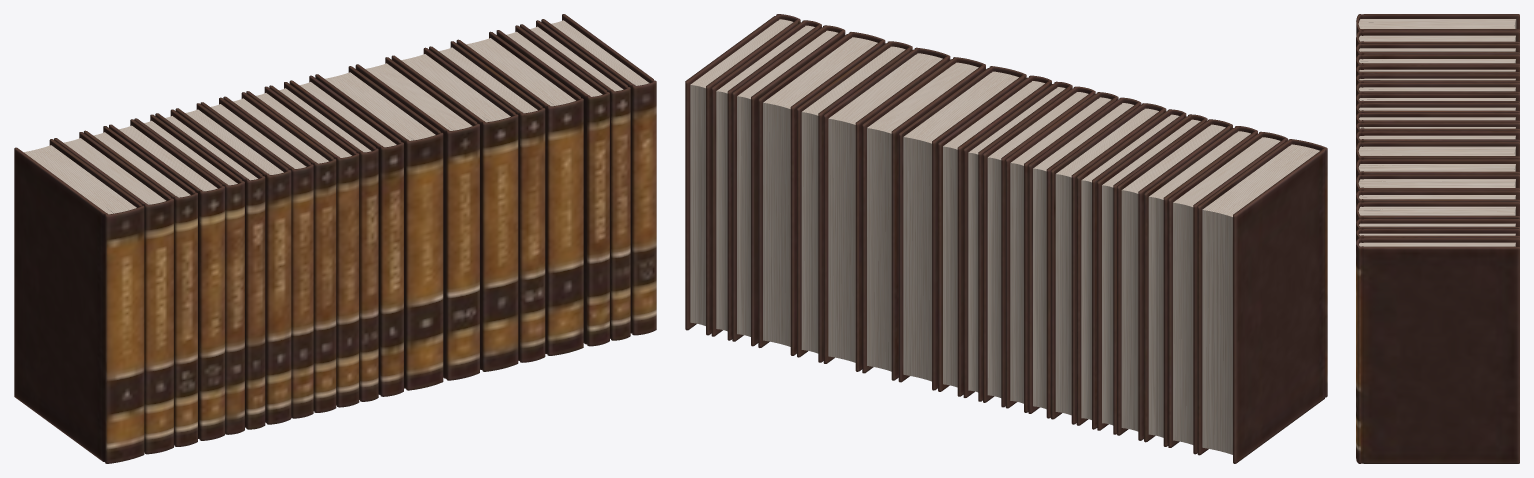
File: ph2_book_encyclopedia_set_01.glb
3 views of the same model, side by side, from view 1: azimuth 30°, elevation 25°; view 2: azimuth 150°, elevation 25°; view 3: azimuth 270°, elevation 25° (orthographic). The views are drawn at different scales.
Size of the model in its own units: 0.5513 by 0.2374 by 0.1631.
Materials: 2 (2 with a texture image).
